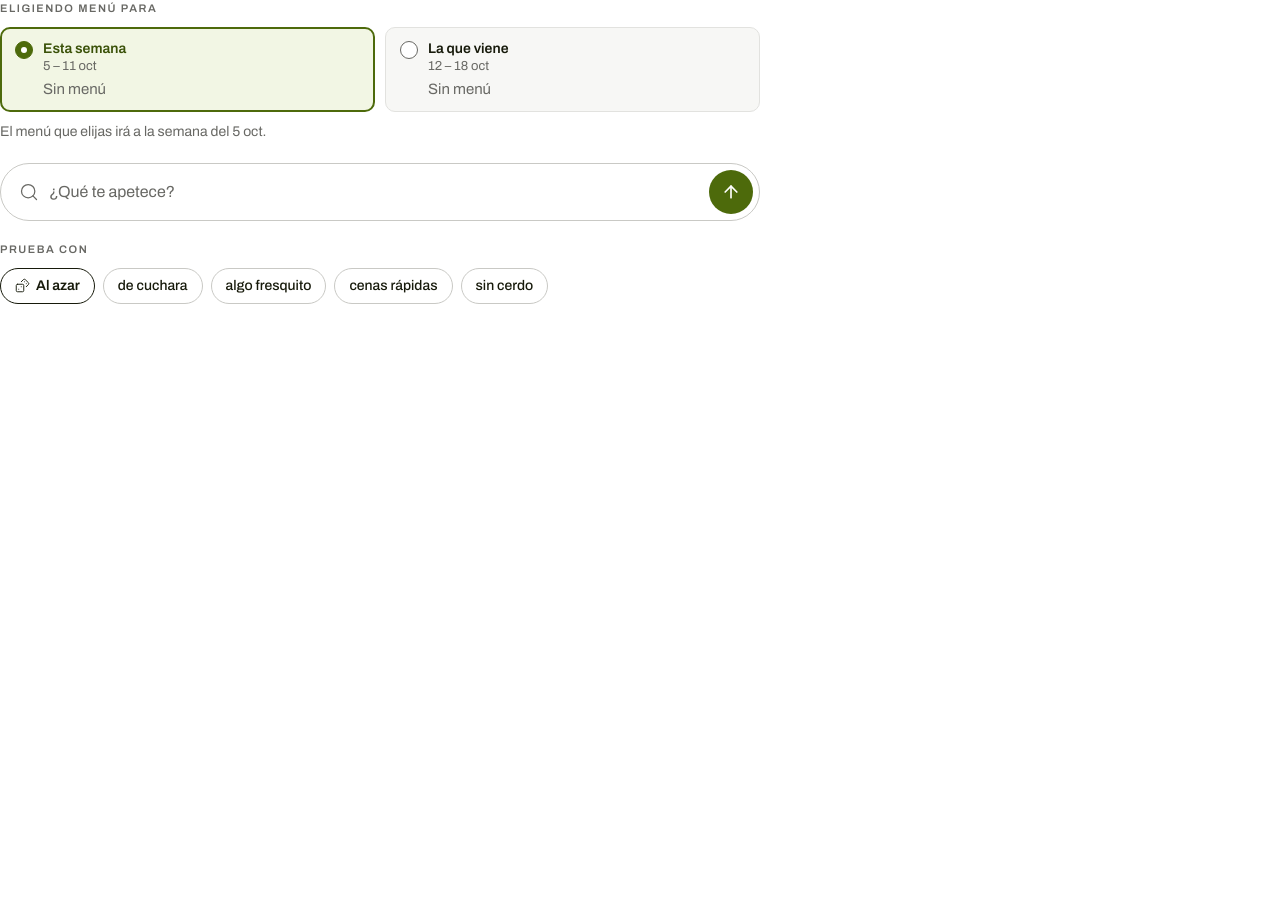
Test case: PlannerSearch › the week preview › opens the week of a card without leaving the results, and reads the menu of the card
Type "garbanzos sin cerdo" into the field. click: (374, 192)
box: 49,172 -> 699,212
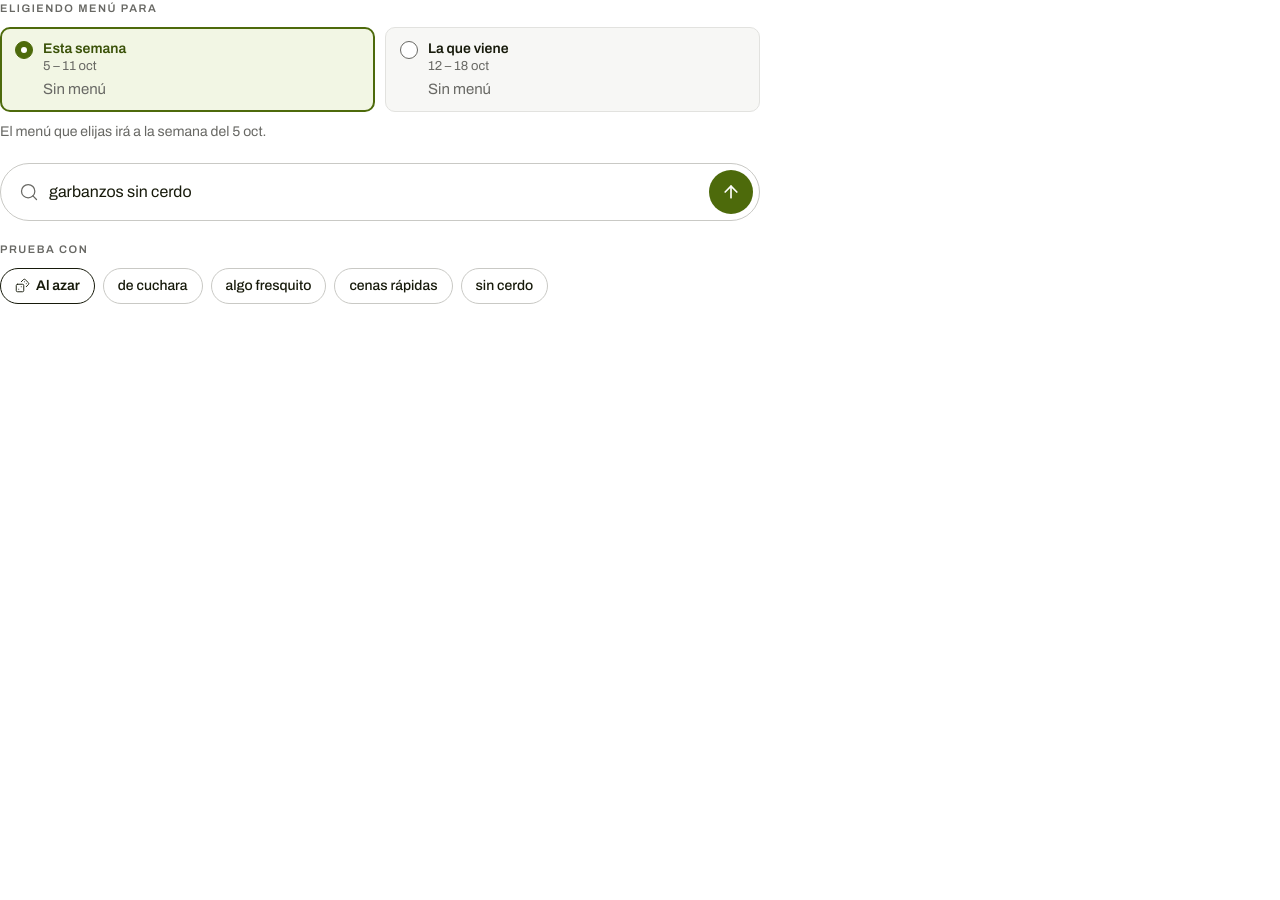
Click the button named "Buscar". click: click(731, 192)
box: 709,170 -> 753,214
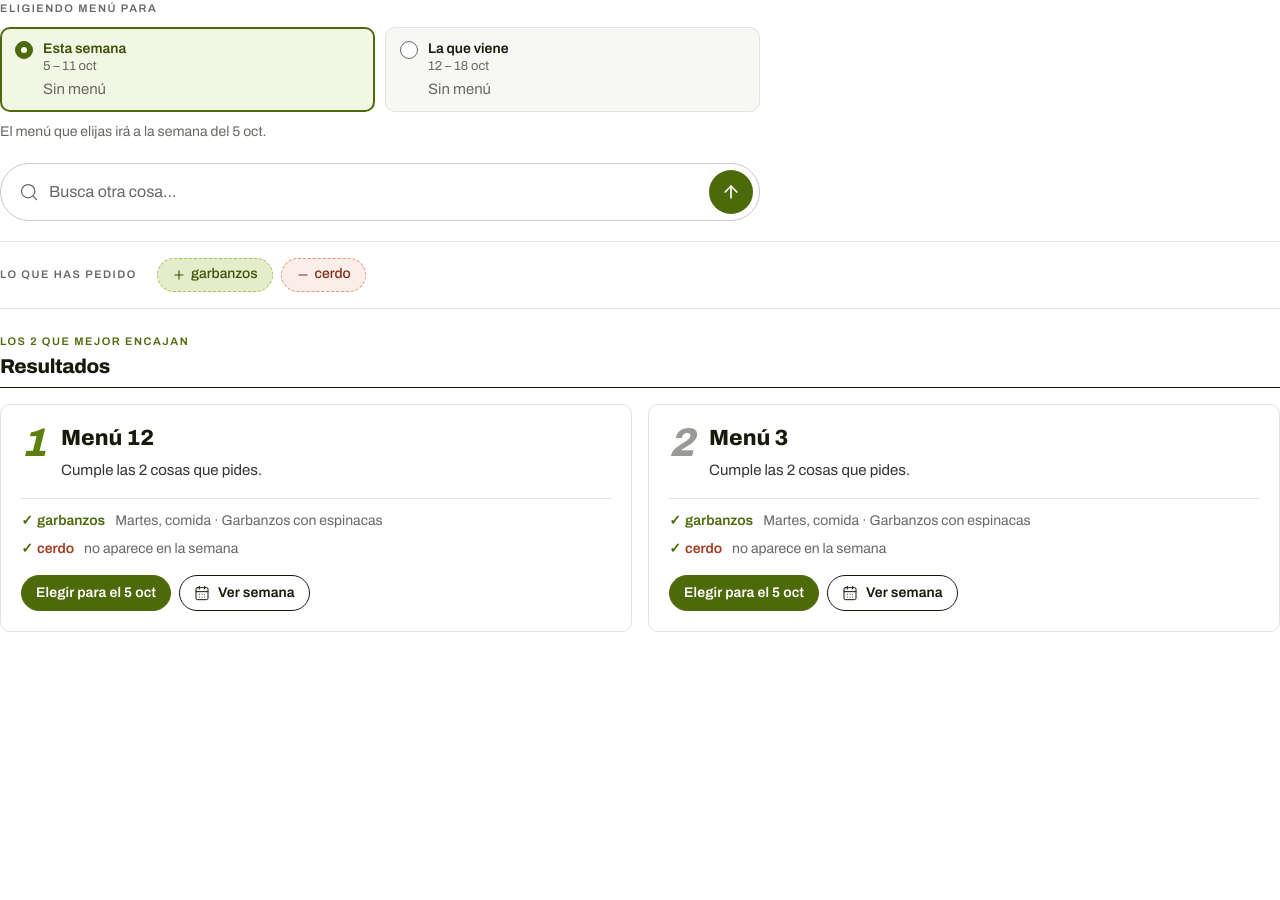
Click the button with aria-label "Ver semana del Menú 12". click: click(244, 592)
box: 179,574 -> 310,610
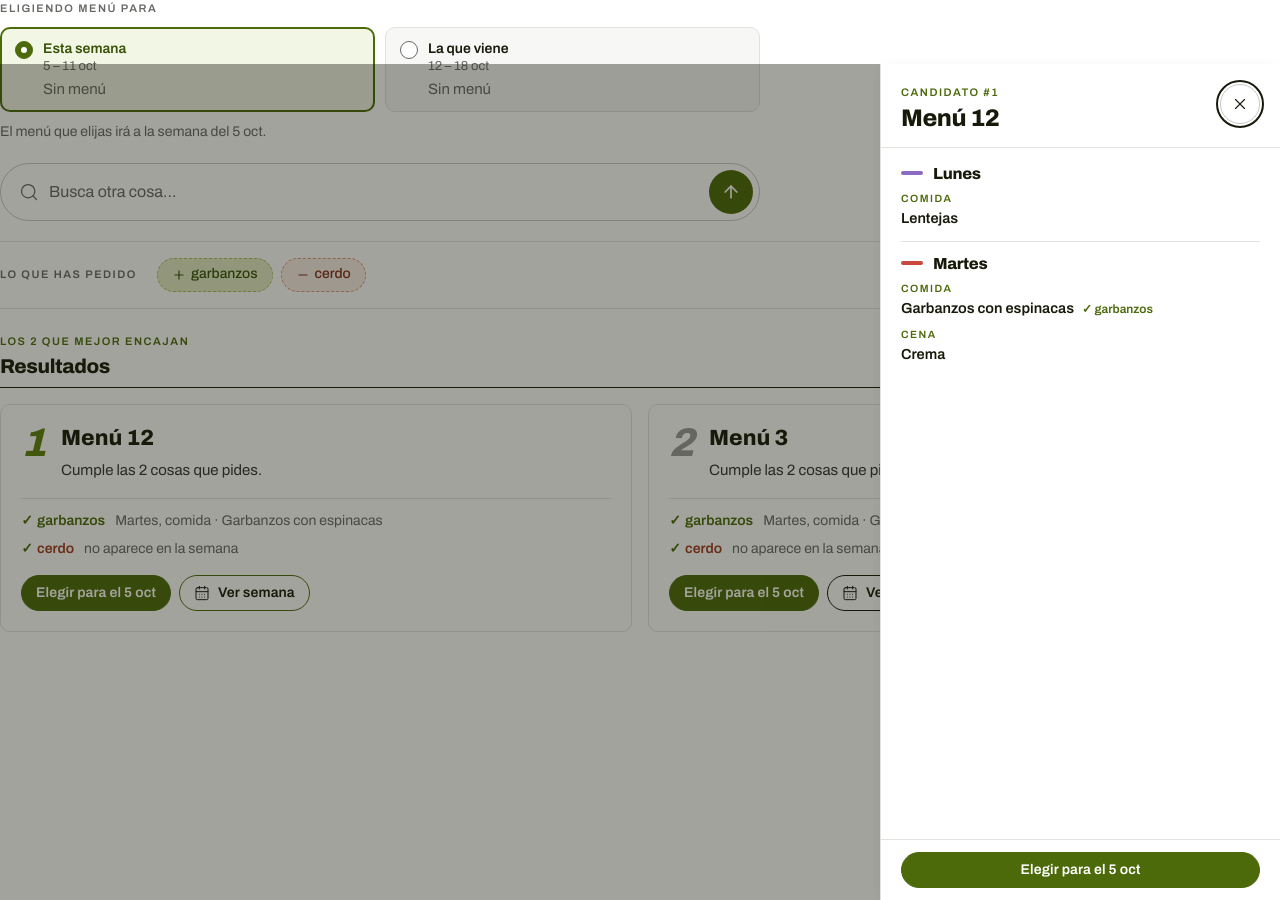
Check: the list named "Lo que has pedido" is shown, box 157,258 -> 366,292
Check: the text "Candidato #1" is shown, box 901,86 -> 999,98
Check: the text "Lentejas" is shown, box 901,210 -> 958,226
